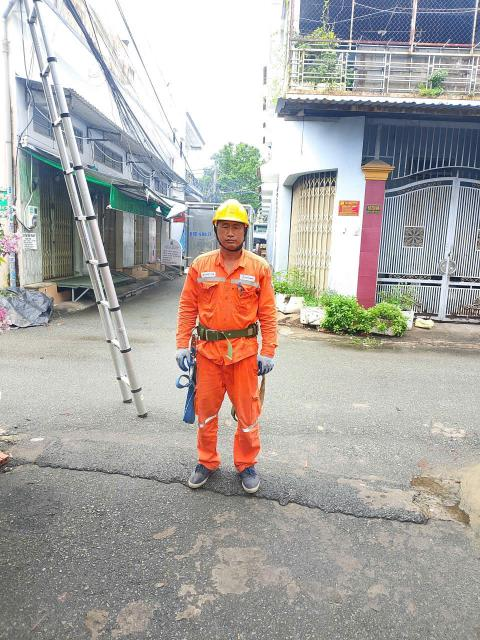gloves: (174, 344, 200, 370), (253, 351, 279, 376)
harness: (190, 321, 264, 341)
helmet: (211, 195, 256, 234)
shoes: (185, 453, 225, 494), (230, 457, 270, 495)
